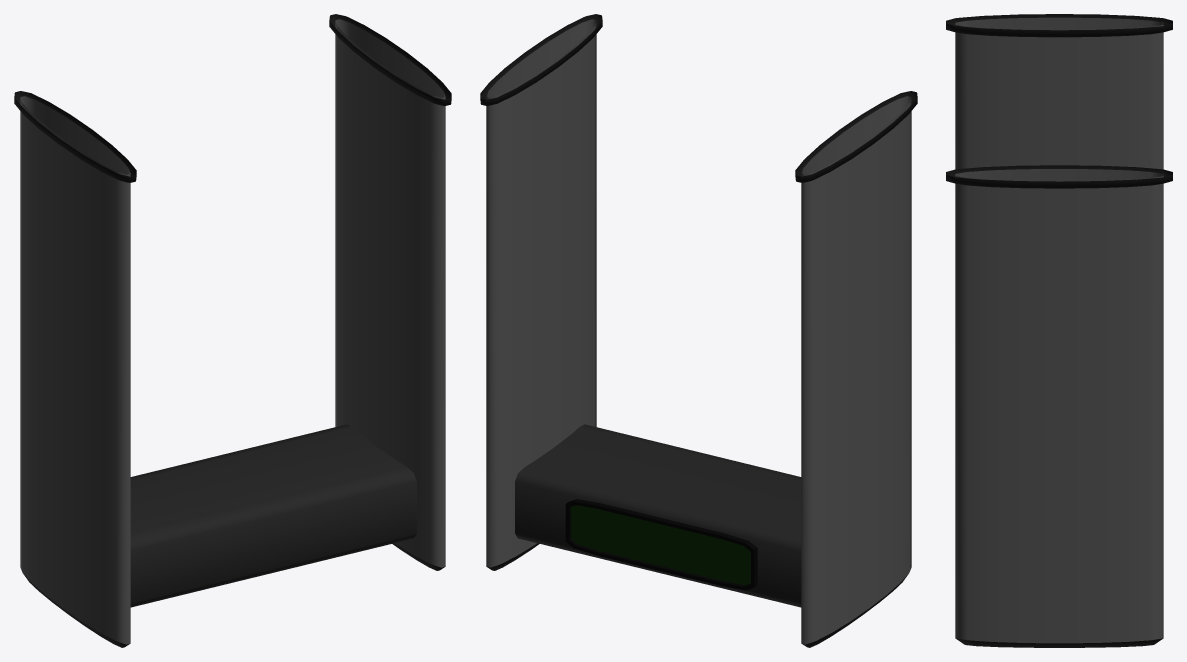
File: magDetector.FBX
3 renders of one model, left to right at view 1: azimuth 30°, elevation 25°; view 2: azimuth 150°, elevation 25°; view 3: azimuth 270°, elevation 25°, orthographic.
Visible parts, largest first — view 1: Box003; view 2: Box003; view 3: Box003.
Boxes of the visible parts, bbox=[...] form: Box003: bbox=[14, 14, 451, 647]; Box003: bbox=[480, 14, 917, 647]; Box003: bbox=[946, 14, 1172, 647].
Size of the model in its own units: 162 by 212 by 92.63.
